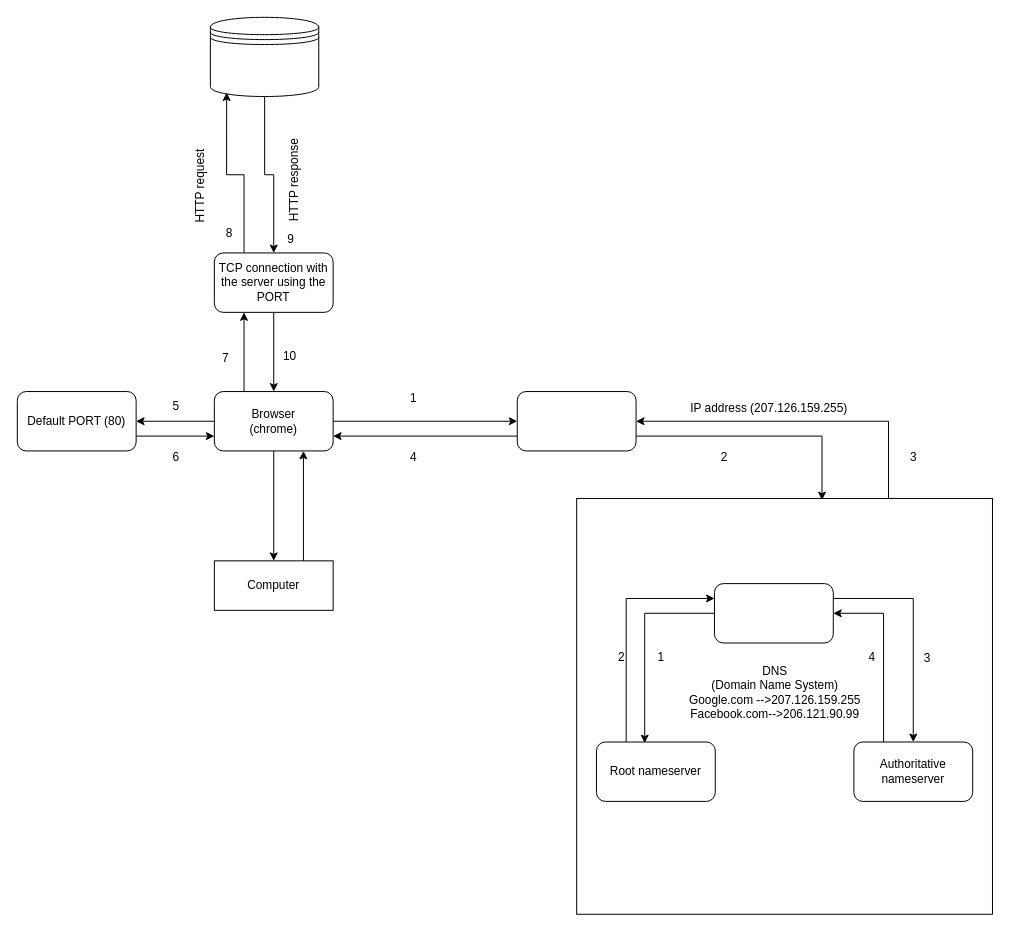
This 1010x932 diagram has some shape labels left out. Here are the shapes that lost their labels. From the top down, the centre of each, then its label:
At (x=264, y=56): "web server".
At (x=576, y=421): "domain name (google.com)".
At (x=773, y=613): "DNS Resolver".
